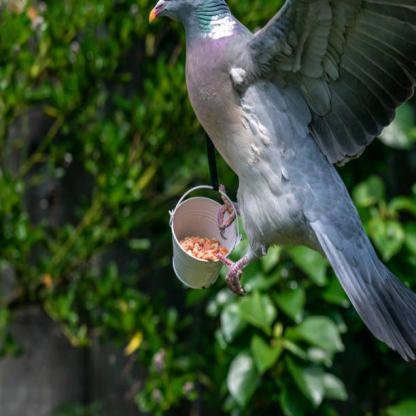Rock Pigeon: (145, 2, 376, 333)
